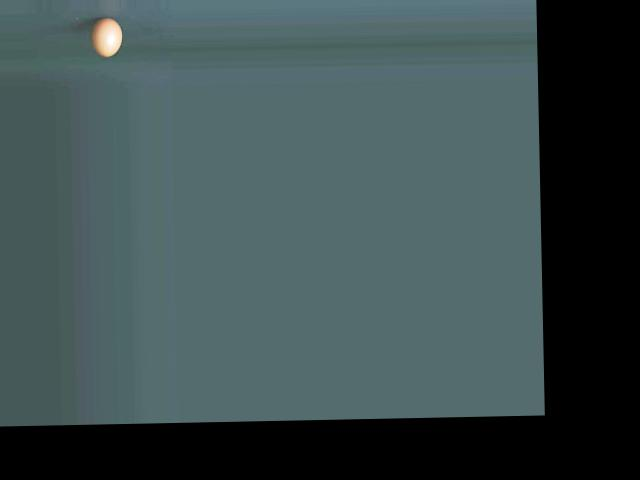egg: (91, 17, 121, 56)
